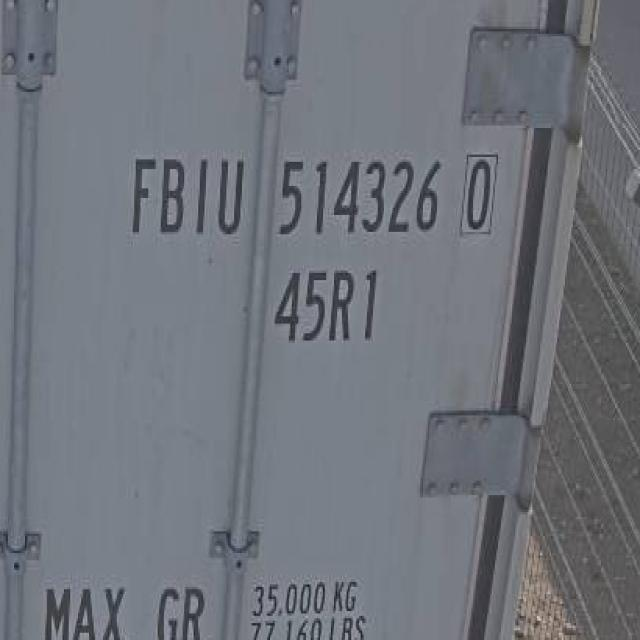dv: (456, 145, 502, 243)
owner: (122, 142, 254, 246)
serial: (267, 150, 448, 246)
size: (269, 264, 385, 349)
